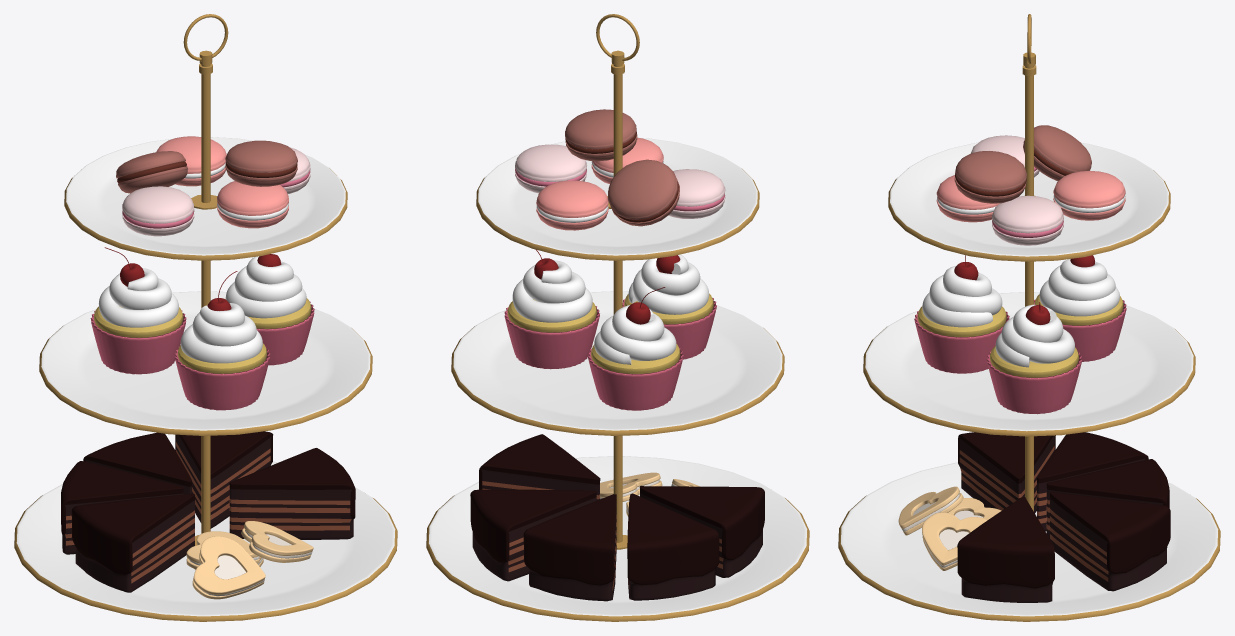
File: cakes.glb
3 views of the same model, side by side, from view 1: azimuth 30°, elevation 25°; view 2: azimuth 150°, elevation 25°; view 3: azimuth 270°, elevation 25° (orthographic).
Parts seen in each view (by area): view 1: polySurface45, polySurface103, polySurface46, polySurface61, polySurface58, polySurface60, polySurface62, polySurface91, polySurface65, polySurface63, polySurface59, polySurface89 (+19 smaller); view 2: polySurface45, polySurface103, polySurface46, polySurface59, polySurface62, polySurface60, polySurface61, polySurface58, polySurface65, polySurface91, polySurface48, polySurface63 (+14 smaller); view 3: polySurface45, polySurface103, polySurface46, polySurface60, polySurface58, polySurface61, polySurface59, polySurface62, polySurface91, polySurface63, polySurface65, polySurface74 (+16 smaller).
Part boxes in pixels (box(x1,y1,x2,y2)): polySurface45: box(39, 291, 372, 435); polySurface103: box(14, 461, 397, 621); polySurface46: box(64, 137, 347, 260); polySurface61: box(71, 493, 194, 592); polySurface58: box(229, 448, 355, 539); polySurface60: box(175, 431, 273, 528); polySurface62: box(61, 461, 183, 554); polySurface91: box(180, 303, 262, 363); polySurface65: box(225, 256, 306, 318); polySurface63: box(98, 268, 178, 327); polySurface59: box(83, 432, 191, 494); polySurface89: box(174, 346, 270, 410); polySurface45: box(451, 291, 784, 435); polySurface103: box(426, 456, 809, 621); polySurface46: box(476, 138, 759, 260); polySurface59: box(523, 494, 616, 601); polySurface62: box(627, 493, 719, 600); polySurface60: box(470, 489, 596, 581); polySurface61: box(639, 486, 764, 577); polySurface58: box(479, 434, 600, 500); polySurface65: box(512, 260, 592, 322); polySurface91: box(628, 254, 709, 314); polySurface48: box(608, 159, 677, 219); polySurface63: box(594, 305, 676, 364); polySurface45: box(863, 292, 1195, 436); polySurface103: box(838, 462, 1220, 621); polySurface46: box(888, 142, 1170, 261); polySurface60: box(1050, 491, 1170, 591); polySurface58: box(957, 497, 1054, 602); polySurface61: box(958, 432, 1055, 513); polySurface59: box(1046, 459, 1169, 547); polySurface62: box(1036, 432, 1148, 531); polySurface91: box(922, 265, 1002, 327); polySurface63: box(1039, 259, 1119, 316); polySurface65: box(995, 304, 1074, 367); polySurface74: box(986, 351, 1081, 414).
Bounding box in the file's own units: 23 × 35.28 × 22.91.
